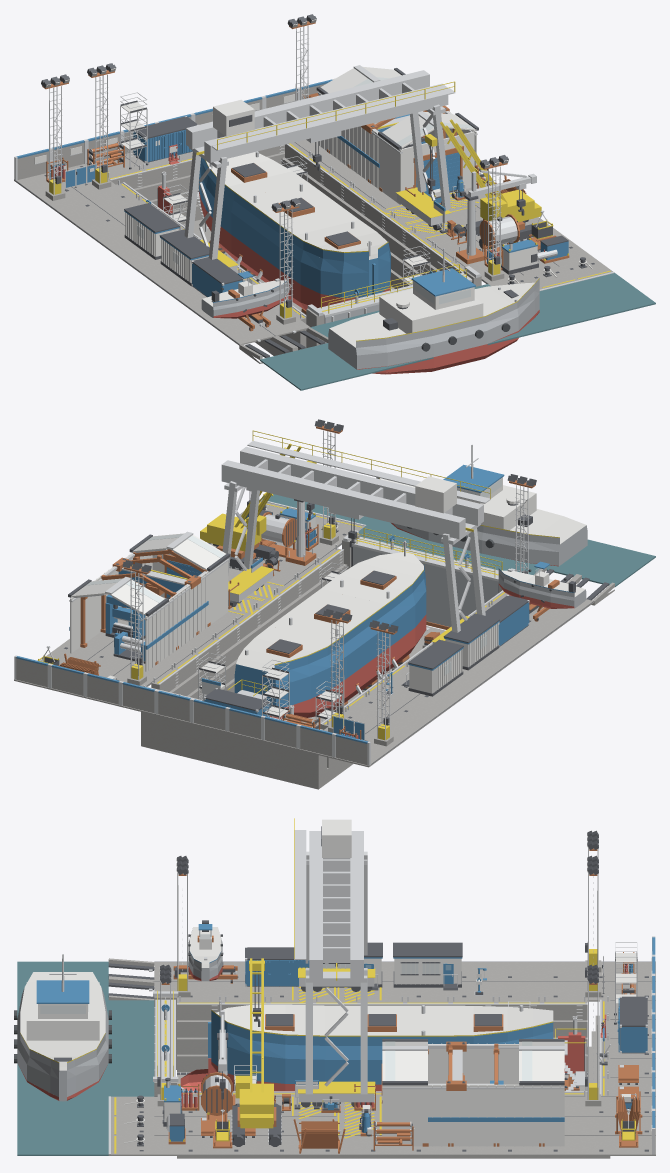
The picture shows the model from 3 angles, top to bottom: view 1: azimuth 30°, elevation 25°; view 2: azimuth 150°, elevation 25°; view 3: azimuth 270°, elevation 25°; orthographic projection. The views are drawn at different scales.
Parts seen in each view (by area): view 1: 199-shipyard-and-dry-dock-dock-gantry-crane/0, 260-shipyard-and-dry-dock-harbour-tug-hull/2, 260-shipyard-and-dry-dock-harbour-tug-hull/1, 162-shipyard-and-dry-dock-hull-section-bow/1, 161-shipyard-and-dry-dock-hull-section-midbody/2, 205-shipyard-and-dry-dock-fabrication-shed-door-bay/1, 201-shipyard-and-dry-dock-crawler-crane/crawler-house, 161-shipyard-and-dry-dock-hull-section-midbody/1, 160-shipyard-and-dry-dock-hull-section-stern/2, 260-shipyard-and-dry-dock-harbour-tug-hull/0, 199-shipyard-and-dry-dock-dock-gantry-crane/2, 162-shipyard-and-dry-dock-hull-section-bow/2 (+58 smaller); view 2: 199-shipyard-and-dry-dock-dock-gantry-crane/0, 160-shipyard-and-dry-dock-hull-section-stern/1, 260-shipyard-and-dry-dock-harbour-tug-hull/2, 260-shipyard-and-dry-dock-harbour-tug-hull/1, 162-shipyard-and-dry-dock-hull-section-bow/2, 161-shipyard-and-dry-dock-hull-section-midbody/2, 149-shipyard-and-dry-dock-dock-gate-caisson/gate-leaf/paint, 161-shipyard-and-dry-dock-hull-section-midbody/1, 202-shipyard-and-dry-dock-fabrication-shed-bay/1, 160-shipyard-and-dry-dock-hull-section-stern/2, 203-shipyard-and-dry-dock-fabrication-shed-bay/1, 201-shipyard-and-dry-dock-crawler-crane/crawler-house (+65 smaller); view 3: 199-shipyard-and-dry-dock-dock-gantry-crane/0, 260-shipyard-and-dry-dock-harbour-tug-hull/2, 162-shipyard-and-dry-dock-hull-section-bow/1, 203-shipyard-and-dry-dock-fabrication-shed-bay/1, 204-shipyard-and-dry-dock-fabrication-shed-bay/1, 260-shipyard-and-dry-dock-harbour-tug-hull/1, 201-shipyard-and-dry-dock-crawler-crane/crawler-house, 161-shipyard-and-dry-dock-hull-section-midbody/2, 202-shipyard-and-dry-dock-fabrication-shed-bay/1, 161-shipyard-and-dry-dock-hull-section-midbody/1, 160-shipyard-and-dry-dock-hull-section-stern/2, 205-shipyard-and-dry-dock-fabrication-shed-door-bay/1 (+66 smaller).
Part boxes in pixels (left/top/right/bottom): 199-shipyard-and-dry-dock-dock-gantry-crane/0: left=184, top=70, right=455, bottom=272; 260-shipyard-and-dry-dock-harbour-tug-hull/2: left=329, top=280, right=534, bottom=347; 260-shipyard-and-dry-dock-harbour-tug-hull/1: left=328, top=279, right=539, bottom=369; 162-shipyard-and-dry-dock-hull-section-bow/1: left=282, top=230, right=390, bottom=297; 161-shipyard-and-dry-dock-hull-section-midbody/2: left=243, top=182, right=359, bottom=235; 205-shipyard-and-dry-dock-fabrication-shed-door-bay/1: left=380, top=129, right=476, bottom=204; 201-shipyard-and-dry-dock-crawler-crane/crawler-house: left=425, top=119, right=541, bottom=222; 161-shipyard-and-dry-dock-hull-section-midbody/1: left=231, top=192, right=283, bottom=271; 160-shipyard-and-dry-dock-hull-section-stern/2: left=206, top=152, right=307, bottom=197; 260-shipyard-and-dry-dock-harbour-tug-hull/0: left=357, top=310, right=539, bottom=374; 199-shipyard-and-dry-dock-dock-gantry-crane/2: left=196, top=81, right=455, bottom=267; 162-shipyard-and-dry-dock-hull-section-bow/2: left=295, top=220, right=387, bottom=259; 199-shipyard-and-dry-dock-dock-gantry-crane/0: left=221, top=441, right=490, bottom=643; 160-shipyard-and-dry-dock-hull-section-stern/1: left=234, top=637, right=346, bottom=707; 260-shipyard-and-dry-dock-harbour-tug-hull/2: left=381, top=477, right=586, bottom=544; 260-shipyard-and-dry-dock-harbour-tug-hull/1: left=376, top=477, right=587, bottom=565; 162-shipyard-and-dry-dock-hull-section-bow/2: left=321, top=542, right=423, bottom=604; 161-shipyard-and-dry-dock-hull-section-midbody/2: left=269, top=589, right=385, bottom=641; 149-shipyard-and-dry-dock-dock-gate-caisson/gate-leaf/paint: left=353, top=546, right=498, bottom=626; 161-shipyard-and-dry-dock-hull-section-midbody/1: left=344, top=599, right=397, bottom=678; 202-shipyard-and-dry-dock-fabrication-shed-bay/1: left=70, top=596, right=166, bottom=671; 160-shipyard-and-dry-dock-hull-section-stern/2: left=236, top=626, right=333, bottom=671; 203-shipyard-and-dry-dock-fabrication-shed-bay/1: left=91, top=568, right=187, bottom=656; 201-shipyard-and-dry-dock-crawler-crane/crawler-house: left=200, top=443, right=316, bottom=551; 199-shipyard-and-dry-dock-dock-gantry-crane/0: left=294, top=830, right=374, bottom=1102; 260-shipyard-and-dry-dock-harbour-tug-hull/2: left=20, top=972, right=105, bottom=1070; 162-shipyard-and-dry-dock-hull-section-bow/1: left=208, top=1011, right=325, bottom=1083; 203-shipyard-and-dry-dock-fabrication-shed-bay/1: left=473, top=1043, right=518, bottom=1146; 204-shipyard-and-dry-dock-fabrication-shed-bay/1: left=428, top=1043, right=473, bottom=1146; 260-shipyard-and-dry-dock-harbour-tug-hull/1: left=17, top=987, right=108, bottom=1101; 201-shipyard-and-dry-dock-crawler-crane/crawler-house: left=235, top=958, right=273, bottom=1128; 161-shipyard-and-dry-dock-hull-section-midbody/2: left=325, top=1005, right=439, bottom=1035; 202-shipyard-and-dry-dock-fabrication-shed-bay/1: left=519, top=1084, right=564, bottom=1146; 161-shipyard-and-dry-dock-hull-section-midbody/1: left=325, top=1036, right=439, bottom=1084; 160-shipyard-and-dry-dock-hull-section-stern/2: left=439, top=1005, right=553, bottom=1035; 205-shipyard-and-dry-dock-fabrication-shed-door-bay/1: left=382, top=1085, right=427, bottom=1146.
Size of the model in its own units: 41 by 23.2 by 56.3.
12 materials, 1 textured.
